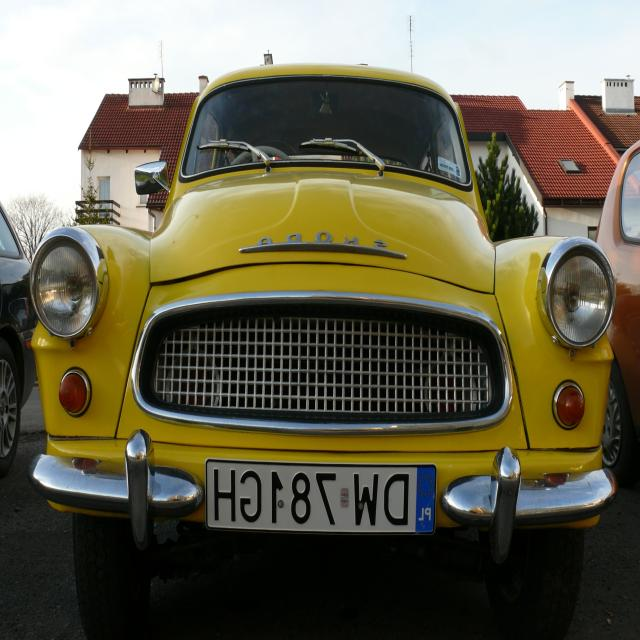pl_license_plate: (206, 464, 436, 532)
